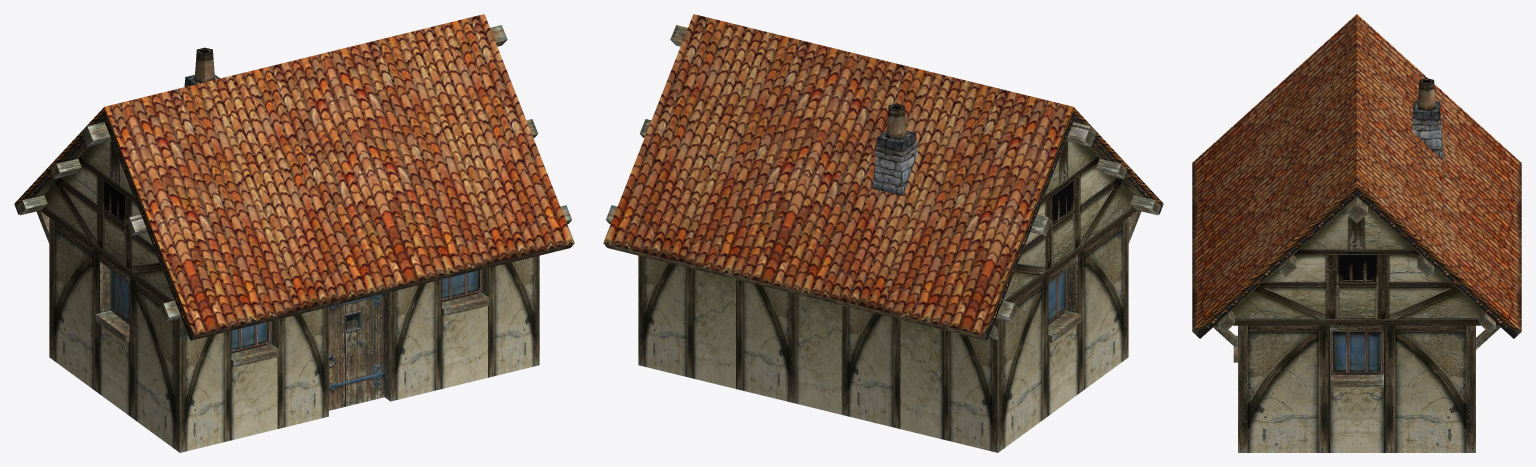
File: S_home42.glb
3 renders of one model, left to right at view 1: azimuth 30°, elevation 25°; view 2: azimuth 150°, elevation 25°; view 3: azimuth 270°, elevation 25°, orthographic. The views are drawn at different scales.
Visible parts, largest first — view 1: S_home42; view 2: S_home42; view 3: S_home42.
Boxes of the visible parts, left/top/right/bottom form: S_home42: left=14, top=14, right=574, bottom=452; S_home42: left=603, top=14, right=1163, bottom=452; S_home42: left=1192, top=14, right=1521, bottom=452.
Size of the model in its own units: 8.07 by 5.6 by 6.09.
Materials: 9 (9 with a texture image).
